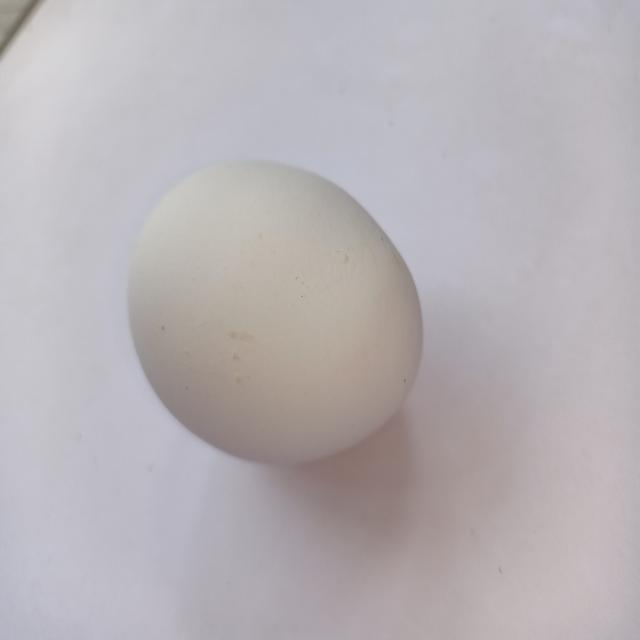Egg: (119, 144, 463, 492)
